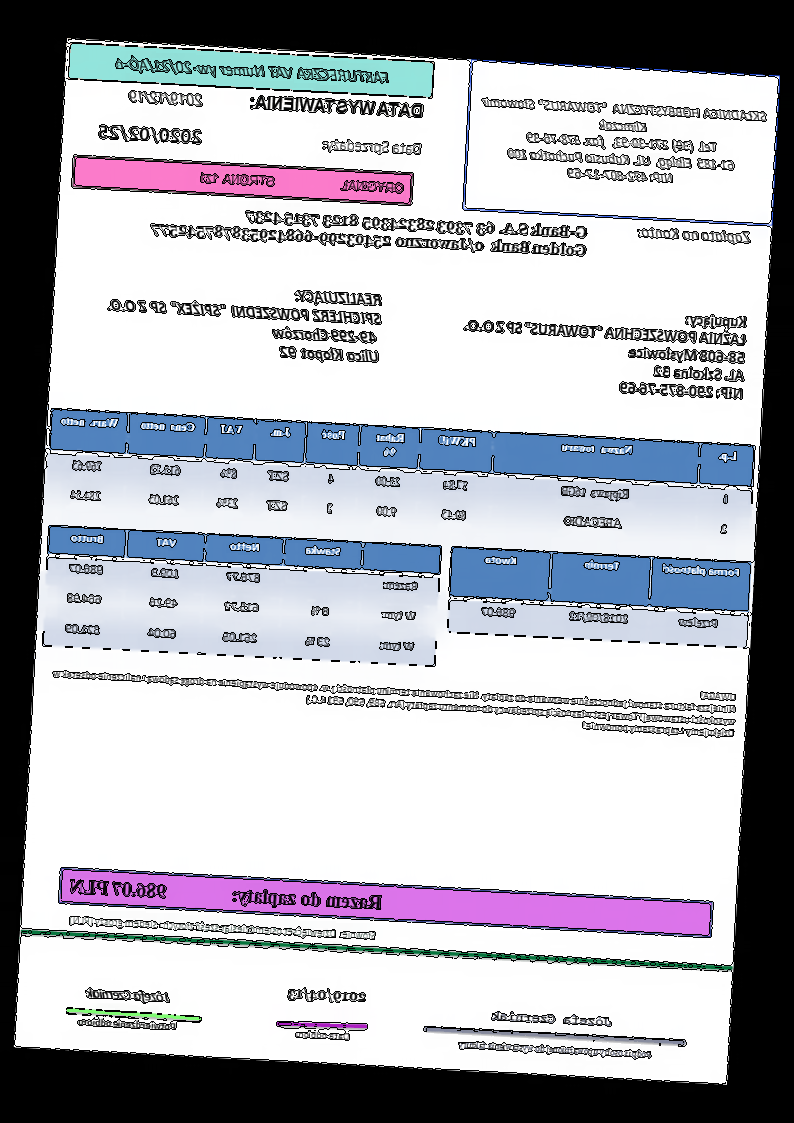Table: (46, 405, 757, 552), (40, 524, 442, 669), (447, 545, 753, 651)
TextBox: (49, 653, 739, 742), (459, 297, 750, 402), (474, 91, 772, 192), (148, 198, 591, 264), (102, 275, 385, 367), (68, 874, 385, 915), (111, 50, 394, 89), (65, 911, 379, 945), (195, 167, 408, 197), (247, 90, 427, 122), (456, 1036, 655, 1061), (95, 119, 205, 147), (320, 133, 424, 160), (636, 221, 752, 245), (490, 1008, 615, 1028), (124, 84, 207, 110), (83, 983, 175, 1006), (286, 983, 370, 1008), (74, 1014, 179, 1034), (293, 1026, 354, 1043)
